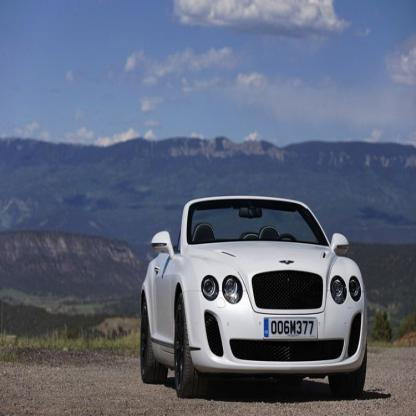Vehicle: (141, 195, 368, 395)
